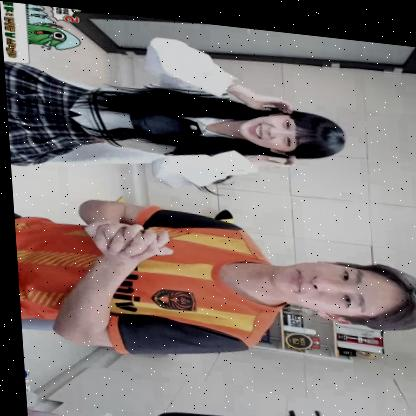donation: (1, 0, 88, 68)
streamer: (10, 190, 416, 378), (1, 18, 349, 202)
